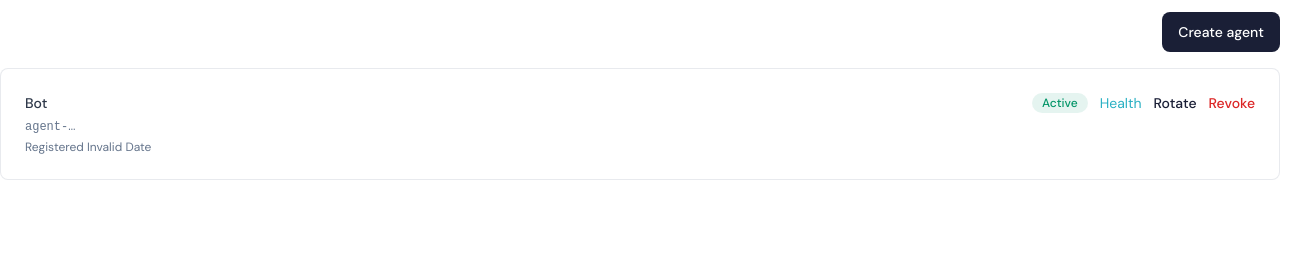
Scenario: AgentsPanel › surfaces an error and does not reveal a secret when rotate fails
Click the button "Rotate" at x=1175, y=103, box [1154,93,1197,113]
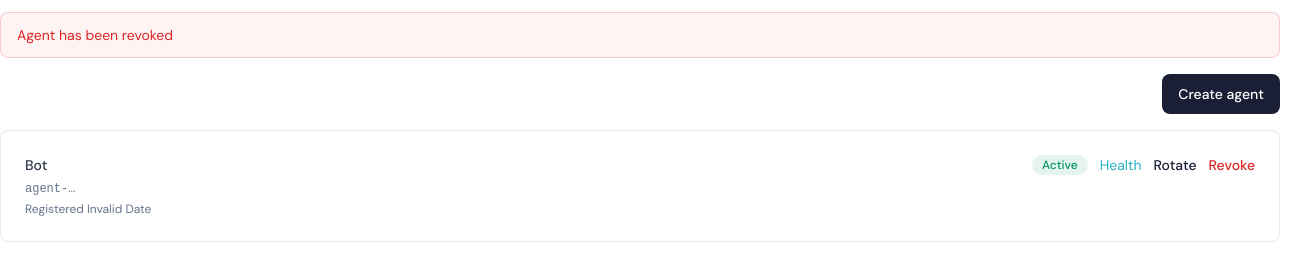
expect the text "Agent has been revoked" is shown: met, box [0,12,1280,58]
